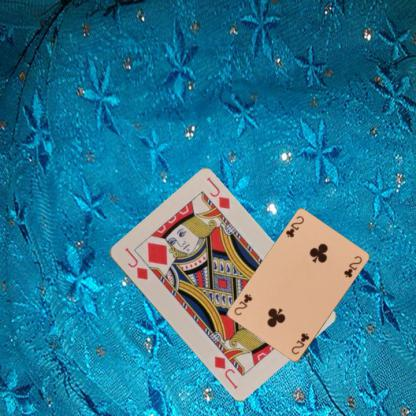2c: (289, 330, 311, 356), (283, 213, 305, 239)
Jd: (122, 244, 149, 282)
